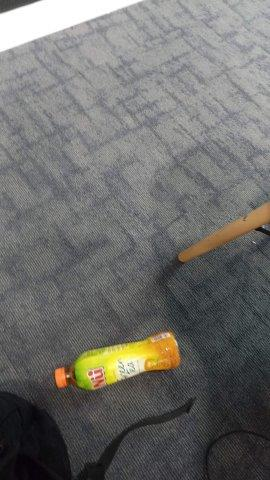botolplastik: (54, 332, 180, 390)
